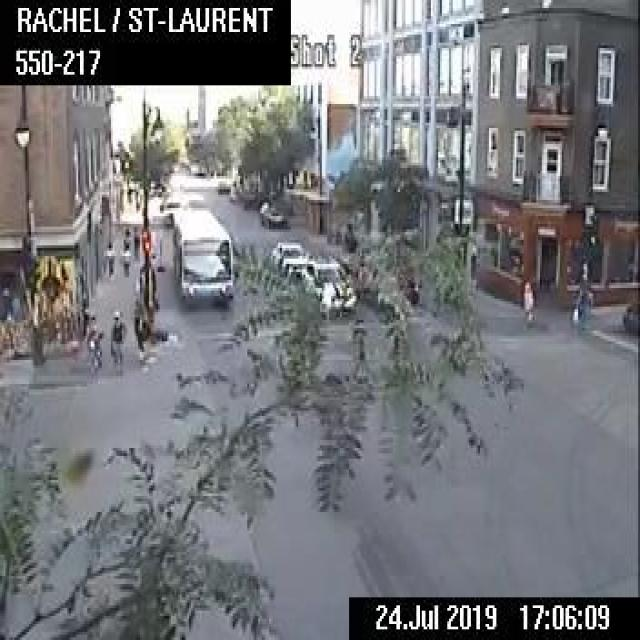bus: (170, 203, 232, 301)
cyclist: (84, 316, 102, 380)
pedestrian: (107, 307, 122, 365), (518, 278, 531, 326), (119, 242, 129, 279), (104, 240, 114, 277)
vehicle: (300, 258, 354, 312), (268, 239, 313, 280), (258, 198, 286, 227), (213, 176, 229, 192)
